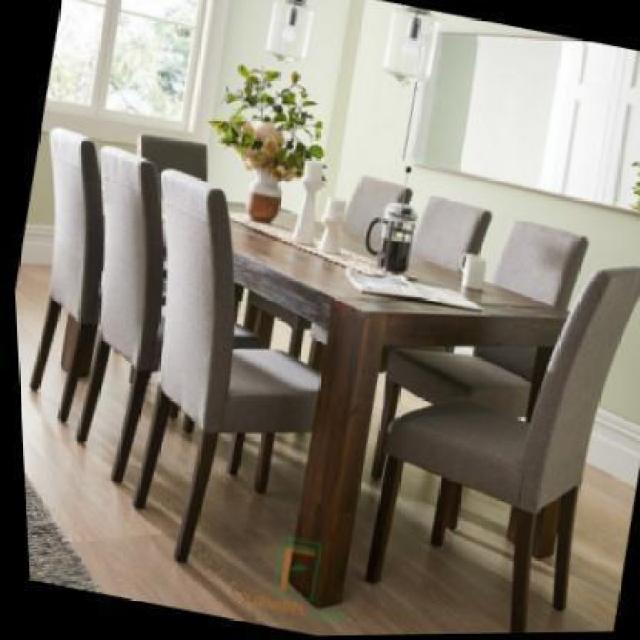tables: (215, 197, 574, 608)
